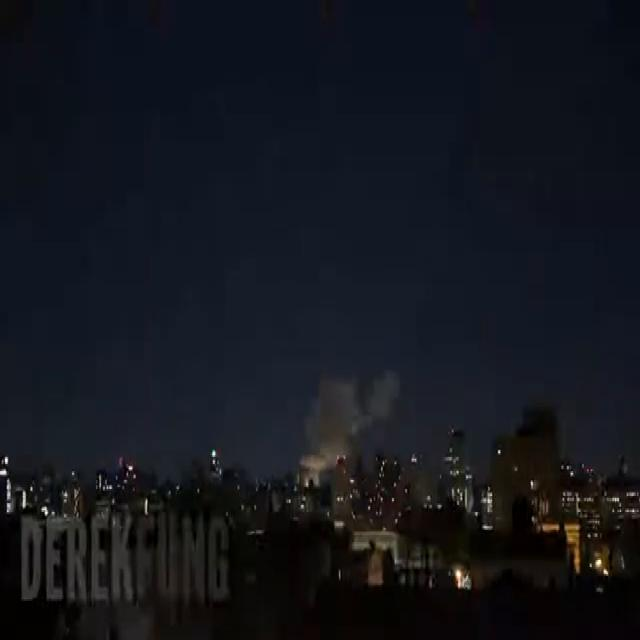smoke: (299, 372, 399, 478)
